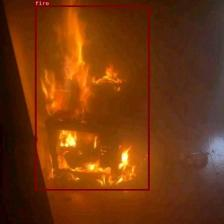fire: (35, 5, 149, 190)
